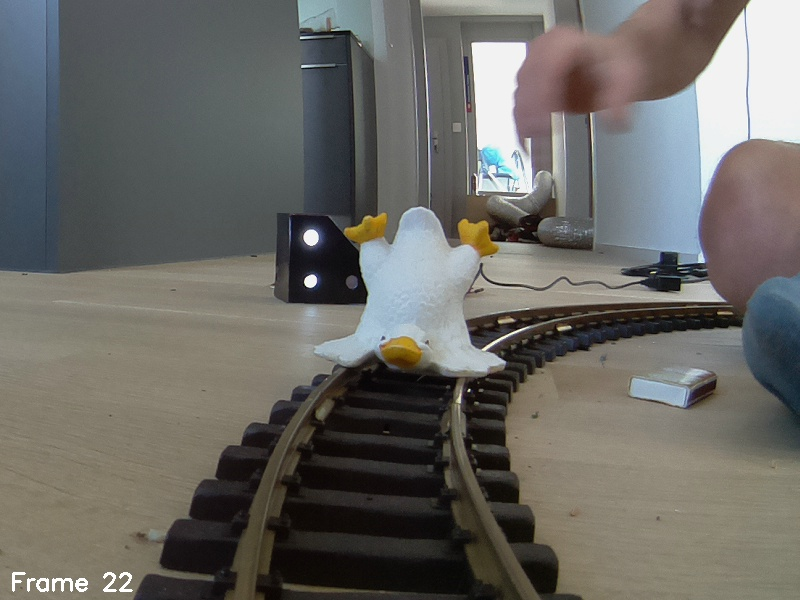Ente: (314, 211, 512, 387)
Fahrt: (273, 213, 373, 316)
